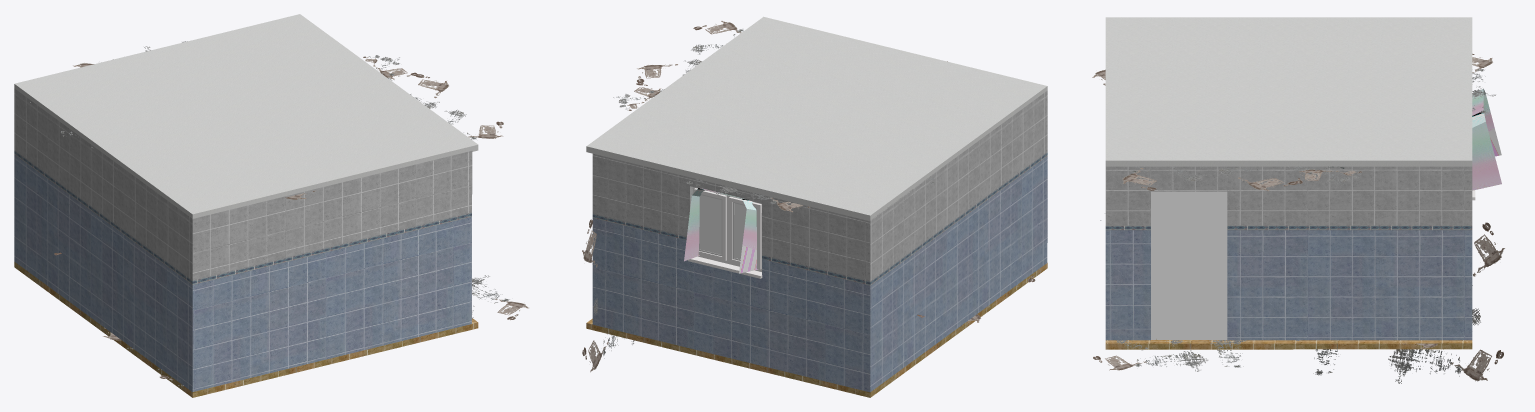
The model's file is FloorPlan401_physics.fbx.
3 views of the same model, side by side, from view 1: azimuth 30°, elevation 25°; view 2: azimuth 150°, elevation 25°; view 3: azimuth 270°, elevation 25° (orthographic). The views are drawn at different scales.
Visible parts, largest first — view 1: FP401:Walls, FP401:Ceiling, FP401:Floor, FP401:Decals.006, FP401:Decals.003; view 2: FP401:Walls, FP401:Ceiling, FP401:Floor, FP401:polySurface5, FP401:Baseboard.000, FP401:polySurface3, FP401:Decals.006, FP401:Decals.005; view 3: FP401:Ceiling, FP401:Walls, FP401:Door, FP401:Floor, FP401:Decals.005, FP401:Baseboard.000, FP401:DoorFrame, FP401:Decals.006, FP401:Decals.003.
Boxes of the visible parts, x1,y1,x2,y2 form: FP401:Walls: (14,88,472,391); FP401:Ceiling: (14,14,478,219); FP401:Floor: (14,262,478,397); FP401:Decals.006: (73,41,503,199); FP401:Decals.003: (103,275,528,385); FP401:Walls: (592,90,1047,392); FP401:Ceiling: (586,16,1047,221); FP401:Floor: (586,263,1047,397); FP401:polySurface5: (688,187,762,278); FP401:Baseboard.000: (684,188,758,273); FP401:polySurface3: (699,195,746,259); FP401:Decals.006: (613,21,947,212); FP401:Decals.005: (582,219,634,372); FP401:Ceiling: (1105,17,1472,166); FP401:Walls: (1105,166,1472,340); FP401:Door: (1157,198,1222,339); FP401:Floor: (1105,339,1472,349); FP401:Decals.005: (1313,222,1504,383); FP401:Baseboard.000: (1472,88,1501,190); FP401:DoorFrame: (1151,191,1227,339); FP401:Decals.006: (1092,53,1495,191); FP401:Decals.003: (1093,220,1438,371).
Bounding box in the file's own units: 573 × 342 × 566.
